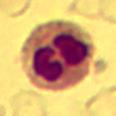eosi: (18, 18, 96, 90)
